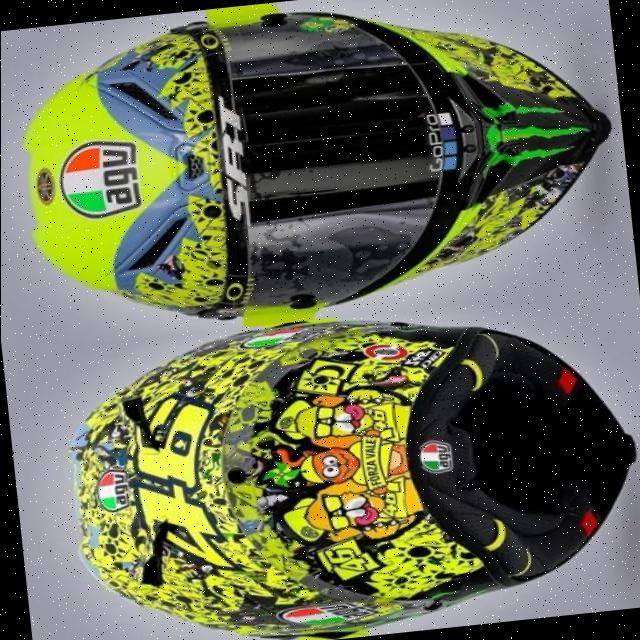Helm: (7, 0, 629, 350), (50, 289, 640, 640)
